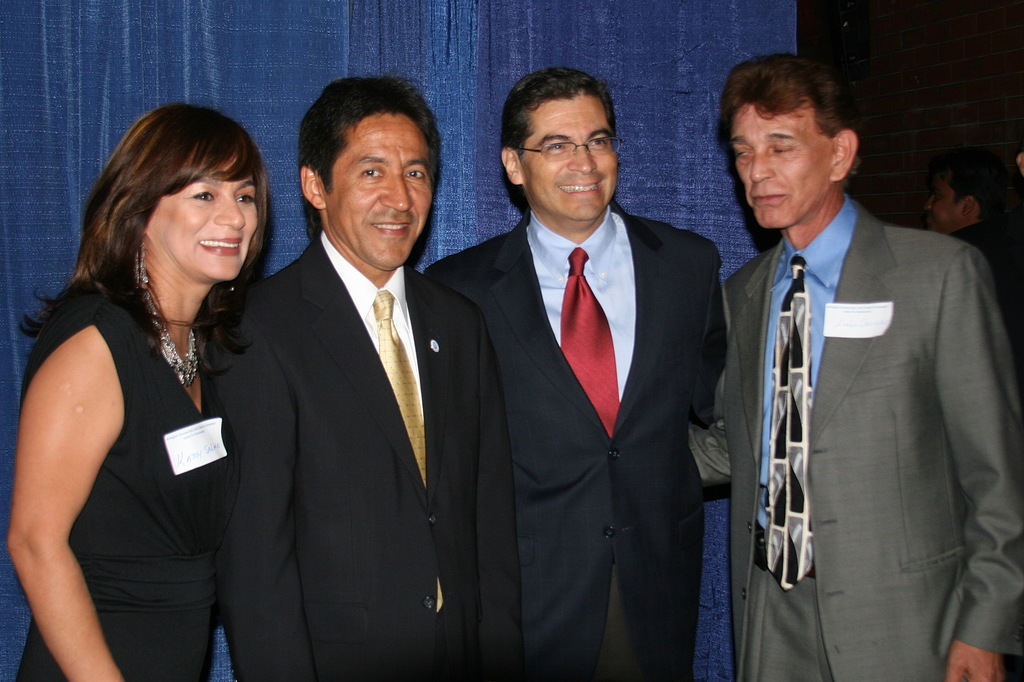Human-face: (322, 107, 433, 267), (155, 161, 256, 286), (730, 107, 829, 232), (522, 94, 613, 219), (922, 173, 959, 232)
